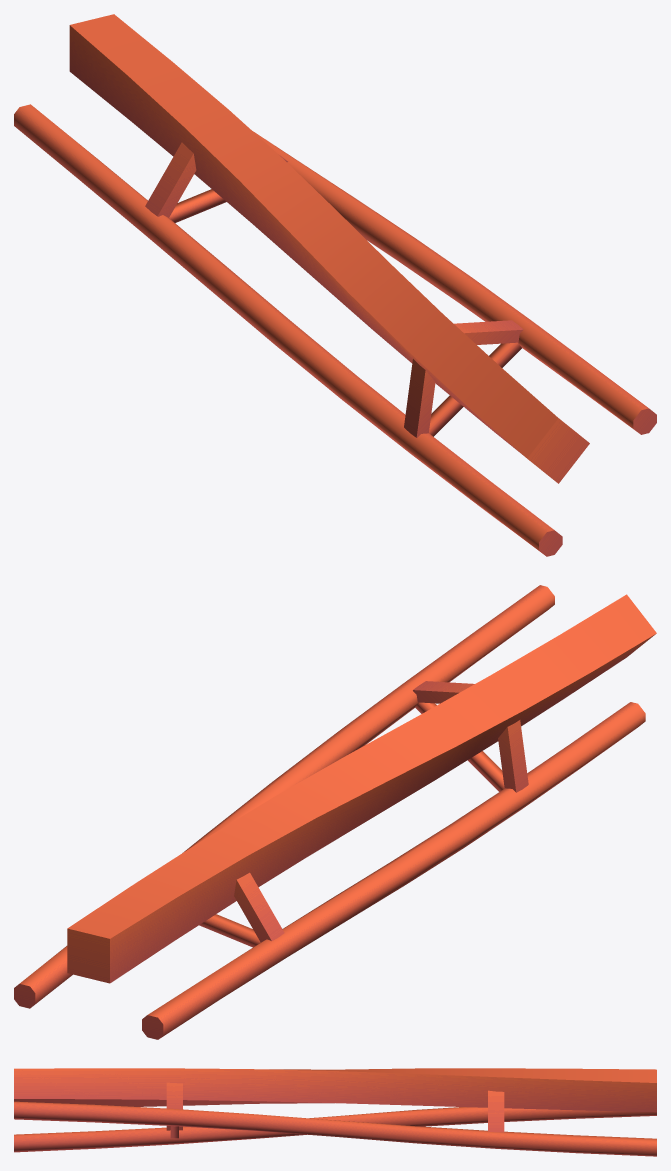
Rendered from coaster-hanging-straight-skew-right.glb.
The picture shows the model from 3 angles, top to bottom: view 1: azimuth 30°, elevation 25°; view 2: azimuth 150°, elevation 25°; view 3: azimuth 270°, elevation 25°; orthographic projection. The views are drawn at different scales.
Visible parts, largest first — view 1: coaster-hanging-straight-skew-right; view 2: coaster-hanging-straight-skew-right; view 3: coaster-hanging-straight-skew-right.
Part boxes in pixels (x1,y1,x2,y2): coaster-hanging-straight-skew-right: (14, 14, 656, 556); coaster-hanging-straight-skew-right: (14, 585, 656, 1039); coaster-hanging-straight-skew-right: (14, 1068, 656, 1156).
Size of the model in its own units: 2.12 by 1.93 by 12.
1 material, 1 textured.
